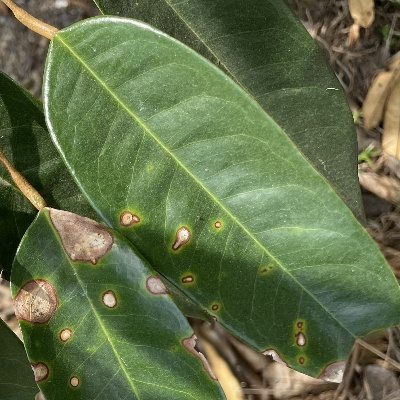Leaf_Phomopsis: (0, 5, 400, 397)
